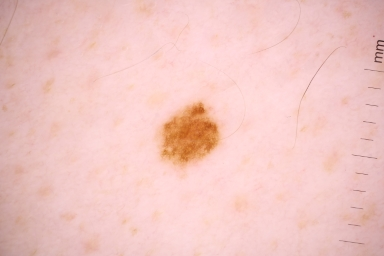melanoma: (161, 100, 219, 162)
